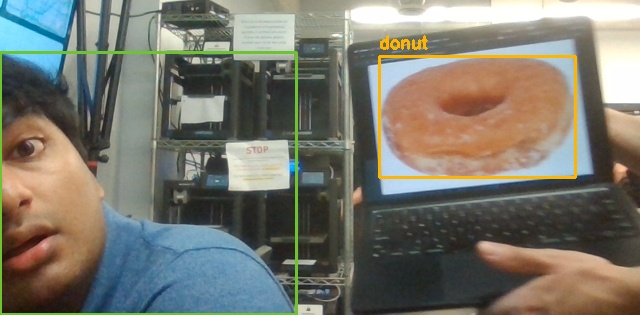donut: (379, 56, 575, 177)
